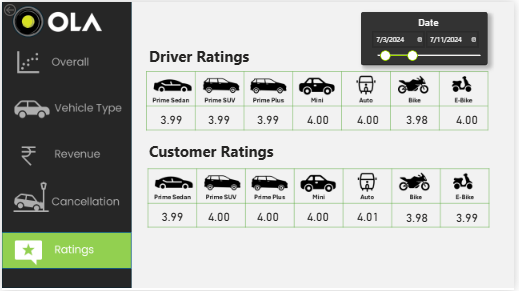

This screenshot's page, from the dashboard's own definition file:
{"tool":"powerbi","page":{"name":"Ratings","canvas":[1280,720],"ordinal":4},"visuals":[{"type":"actionButton","box":[0,311.4,324.3,125.7],"z":0},{"type":"actionButton","box":[0,104.3,324.3,108.6],"z":1000},{"type":"actionButton","box":[0,437.1,324.3,138.6],"z":2000},{"type":"actionButton","box":[0,202.9,324.3,108.6],"z":3000},{"type":"card","fields":{"Values":["Avg(July.Driver_Ratings)"]},"box":[364.1,265.2,116.3,55.4],"z":4000},{"type":"actionButton","box":[0,0,100,40],"z":5000},{"type":"card","fields":{"Values":["Avg(July.Driver_Ratings)"]},"box":[492.4,269.6,100,46.7],"z":6000},{"type":"card","fields":{"Values":["Avg(July.Driver_Ratings)"]},"box":[615.2,269.6,100,46.7],"z":7000},{"type":"card","fields":{"Values":["Avg(July.Driver_Ratings)"]},"box":[740.2,269.6,100,46.7],"z":8000},{"type":"card","fields":{"Values":["Avg(July.Driver_Ratings)"]},"box":[864.1,269.6,100,46.7],"z":9000},{"type":"card","fields":{"Values":["Avg(July.Driver_Ratings)"]},"box":[987,269.6,100,46.7],"z":10000},{"type":"card","fields":{"Values":["Avg(July.Driver_Ratings)"]},"box":[1112,269.6,100,46.7],"z":11000},{"type":"card","fields":{"Values":["Avg(July.Customer_Rating)"]},"box":[372.9,515.7,107.1,41.4],"z":12000},{"type":"textbox","box":[363.3,105,290,66.7],"z":13000},{"type":"textbox","box":[363.3,341.7,351.7,66.7],"z":14000},{"type":"card","fields":{"Values":["Avg(July.Customer_Rating)"]},"box":[492.9,511.4,100,45.7],"z":15000},{"type":"card","fields":{"Values":["Avg(July.Customer_Rating)"]},"box":[615.7,511.4,100,45.7],"z":16000},{"type":"card","fields":{"Values":["Avg(July.Customer_Rating)"]},"box":[740,511.4,100,45.7],"z":17000},{"type":"card","fields":{"Values":["Avg(July.Customer_Rating)"]},"box":[864.3,511.4,100,45.7],"z":18000},{"type":"card","fields":{"Values":["Avg(July.Customer_Rating)"]},"box":[987.1,514.3,100,45.7],"z":19000},{"type":"card","fields":{"Values":["Avg(July.Customer_Rating)"]},"box":[1111.4,514.3,100,45.7],"z":20000},{"type":"slicer","title":"Date","fields":{"Values":["July.Date"]},"box":[896.6,25.9,315.5,132.8],"z":21000}]}

Visuals, with their boxes in screenshot pixels (x1, y1, x2, y2), scaled from the page's 1280x720 canvas onto the 519x291 screenshot:
actionButton: (0, 126, 131, 177)
actionButton: (0, 42, 131, 86)
actionButton: (0, 177, 131, 233)
actionButton: (0, 82, 131, 126)
card - Avg(July.Driver_Ratings): (148, 107, 195, 130)
actionButton: (0, 0, 41, 16)
card - Avg(July.Driver_Ratings): (200, 109, 240, 128)
card - Avg(July.Driver_Ratings): (249, 109, 290, 128)
card - Avg(July.Driver_Ratings): (300, 109, 341, 128)
card - Avg(July.Driver_Ratings): (350, 109, 391, 128)
card - Avg(July.Driver_Ratings): (400, 109, 441, 128)
card - Avg(July.Driver_Ratings): (451, 109, 491, 128)
card - Avg(July.Customer_Rating): (151, 208, 195, 225)
textbox: (147, 42, 265, 69)
textbox: (147, 138, 290, 165)
card - Avg(July.Customer_Rating): (200, 207, 240, 225)
card - Avg(July.Customer_Rating): (250, 207, 290, 225)
card - Avg(July.Customer_Rating): (300, 207, 341, 225)
card - Avg(July.Customer_Rating): (350, 207, 391, 225)
card - Avg(July.Customer_Rating): (400, 208, 441, 226)
card - Avg(July.Customer_Rating): (451, 208, 491, 226)
"Date" slicer: (364, 10, 491, 64)
